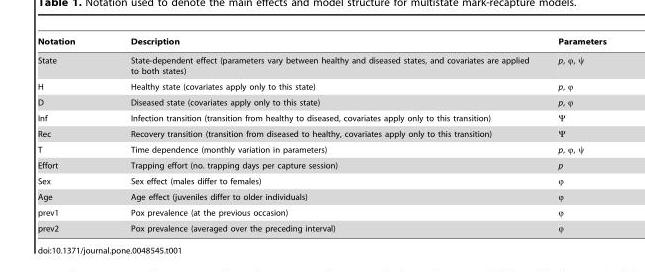table: (37, 36, 605, 232)
table column: (102, 36, 543, 232), (37, 36, 102, 232), (543, 36, 605, 232)
table column header: (37, 36, 605, 50)
table row: (37, 50, 605, 78), (37, 78, 605, 94), (37, 94, 605, 110), (37, 125, 605, 141), (37, 141, 605, 157), (37, 157, 605, 173), (37, 188, 605, 204), (37, 204, 605, 220), (37, 110, 605, 125), (37, 173, 605, 188), (37, 36, 605, 50), (37, 220, 605, 232)
